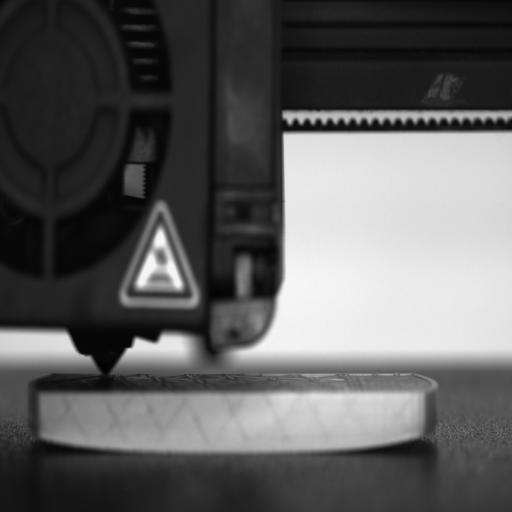warp: (390, 416, 440, 456), (21, 419, 69, 449)
